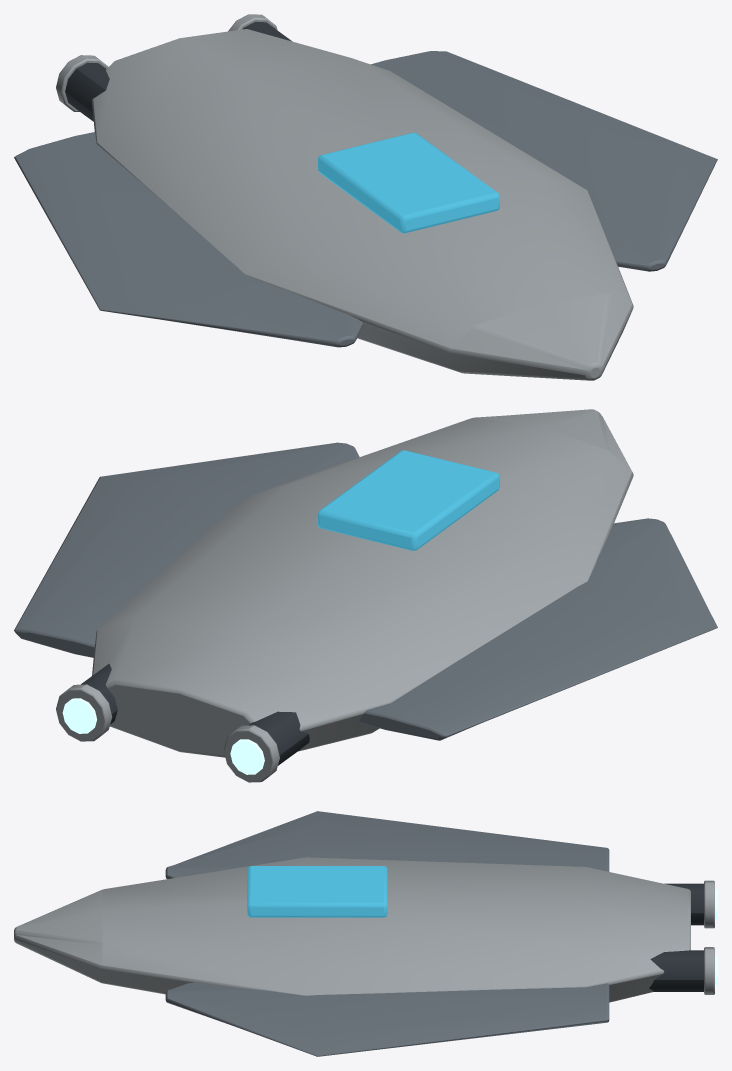
The model's file is QW_EscortWing_LOD2.fbx.
3 views of the same model, one above another, from view 1: azimuth 30°, elevation 25°; view 2: azimuth 150°, elevation 25°; view 3: azimuth 270°, elevation 25° (orthographic). The views are drawn at different scales.
Visible parts, largest first — view 1: QW_EscortWing_LOD2; view 2: QW_EscortWing_LOD2; view 3: QW_EscortWing_LOD2.
Part boxes in pixels (bbox=[...]): QW_EscortWing_LOD2: bbox=[14, 14, 717, 380]; QW_EscortWing_LOD2: bbox=[14, 409, 717, 782]; QW_EscortWing_LOD2: bbox=[14, 811, 717, 1056].
Size of the model in its own units: 9.95 by 1.64 by 12.06.
